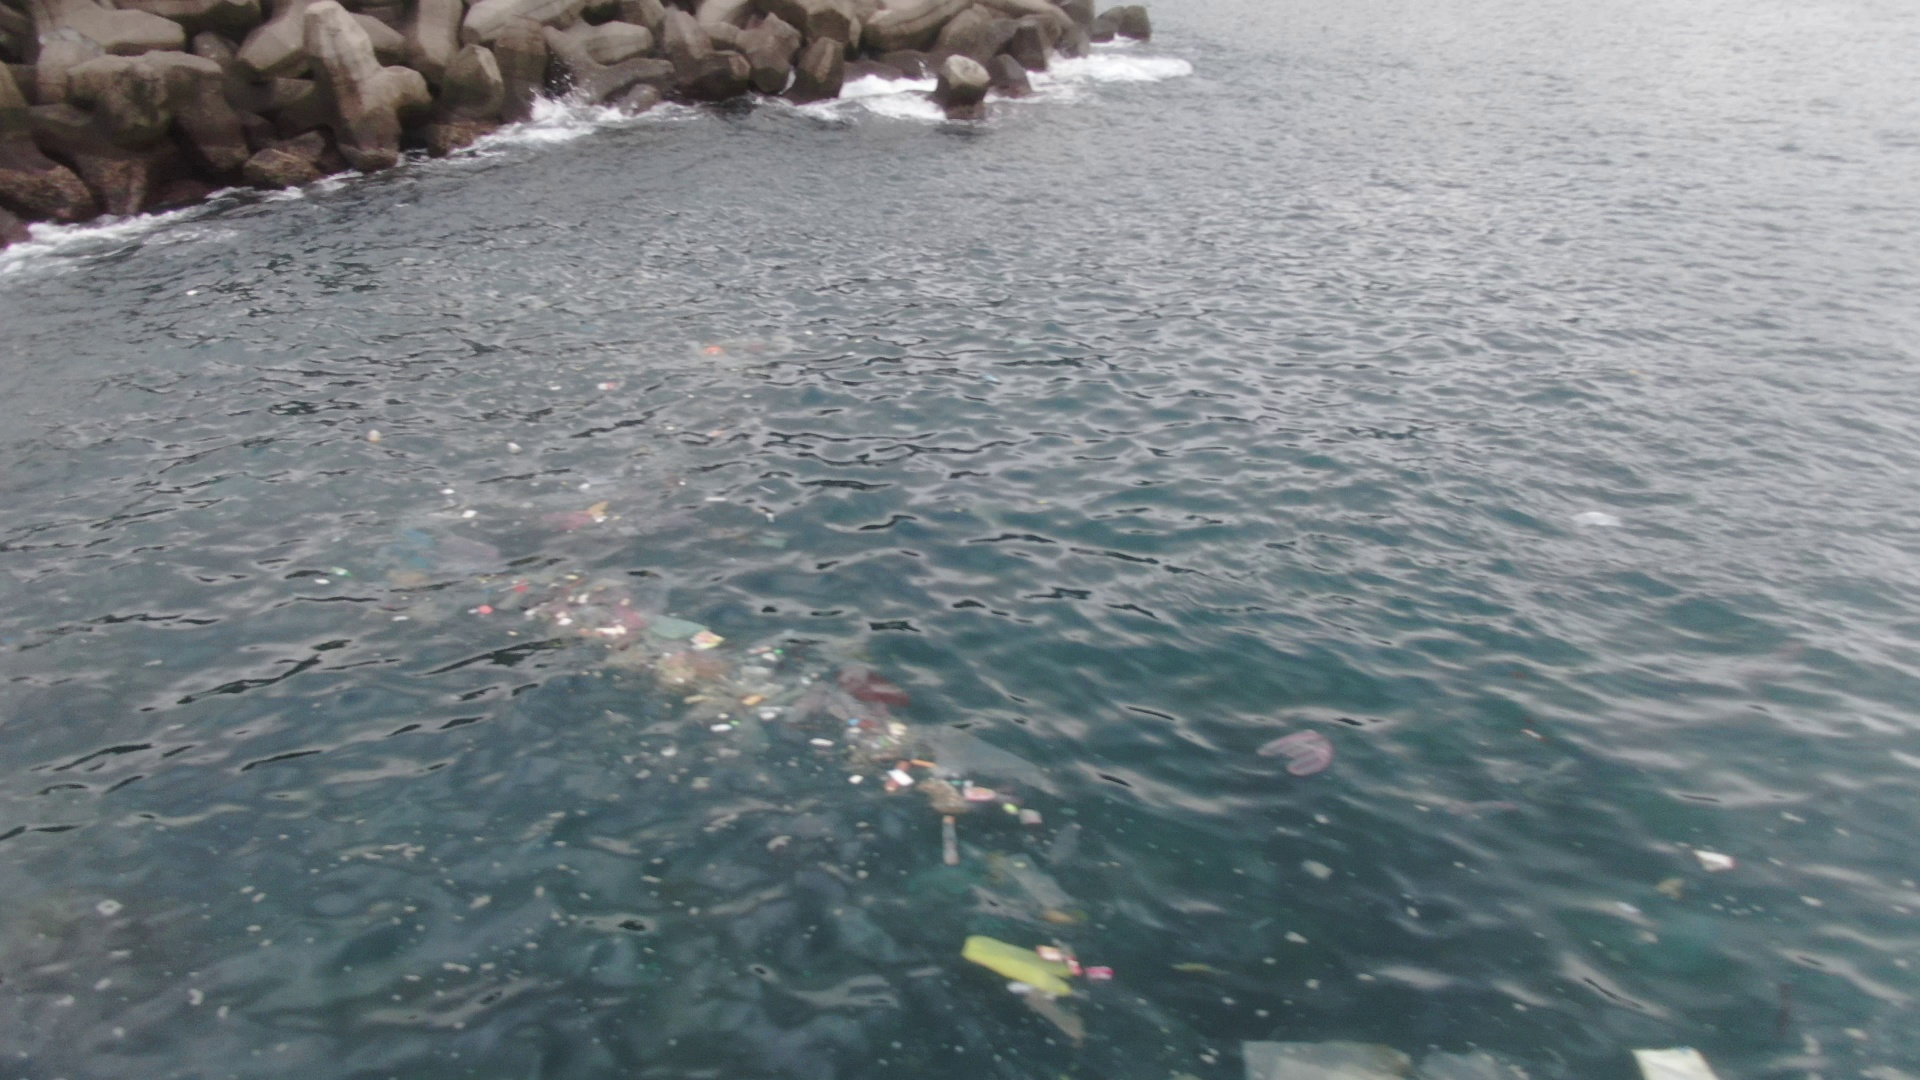garbage: (484, 564, 1044, 869), (949, 926, 1129, 1047), (1232, 1035, 1549, 1080), (1253, 720, 1341, 783), (1627, 1042, 1716, 1080), (1691, 840, 1739, 881)
